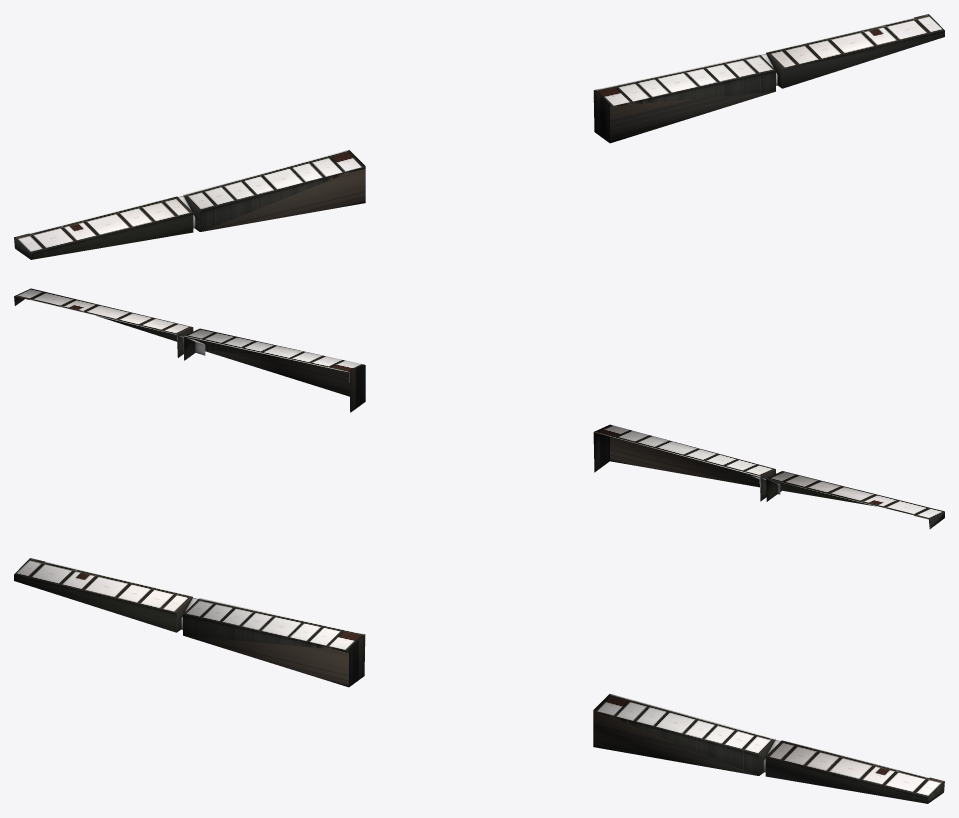
Rendered from wingElements.fbx.
3 views of the same model, one above another, from view 1: azimuth 30°, elevation 25°; view 2: azimuth 150°, elevation 25°; view 3: azimuth 330°, elevation 25° (orthographic).
Visible parts, largest first — view 1: WingElements; view 2: WingElements; view 3: WingElements.
Part boxes in pixels (x1,y1,x2,y2): WingElements: (14, 14, 944, 259); WingElements: (14, 288, 944, 529); WingElements: (14, 558, 944, 803).
Size of the model in its own units: 90.83 by 3.92 by 2.85.
